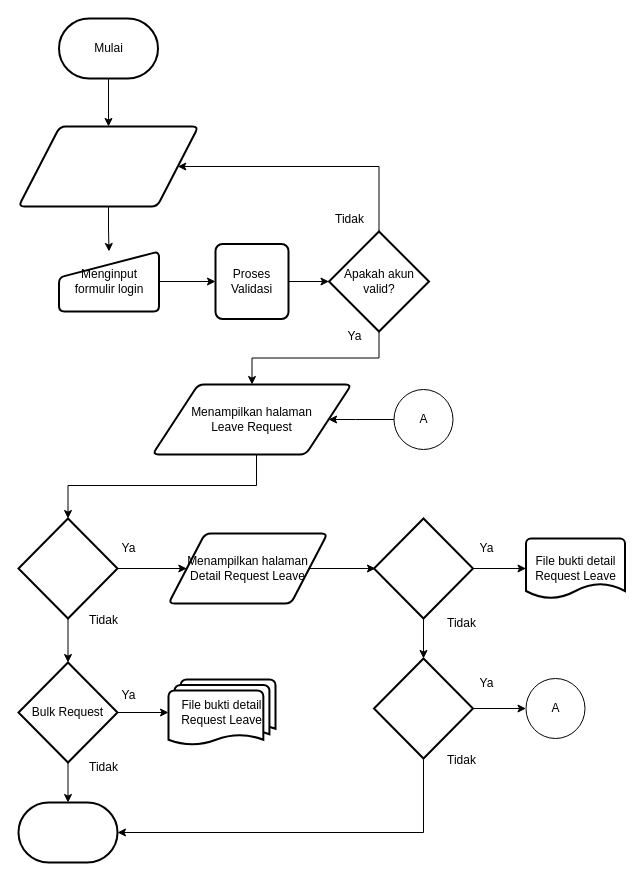
Image size: 643x880. Some labels were removed from this diagram. The shapes that lost their labels are listed below. From the top down, each one's centre as x and y in pixels, then its label:
At point 108,166: "Menampilkan halaman login".
At point 67,568: "Klik ikon View?".
At point 423,568: "Klik Print Request?".
At point 423,708: "Klik Back to List?".
At point 67,832: "Selesai".
